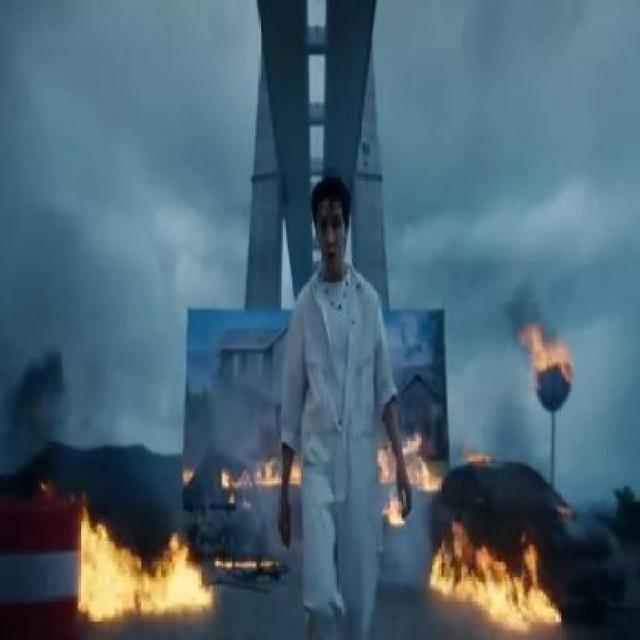fire: (79, 508, 213, 634), (435, 526, 563, 640), (514, 330, 572, 376)
smoke: (1, 131, 118, 474), (186, 358, 280, 466), (484, 378, 552, 480), (485, 253, 553, 332), (262, 477, 307, 591), (384, 486, 428, 588)
